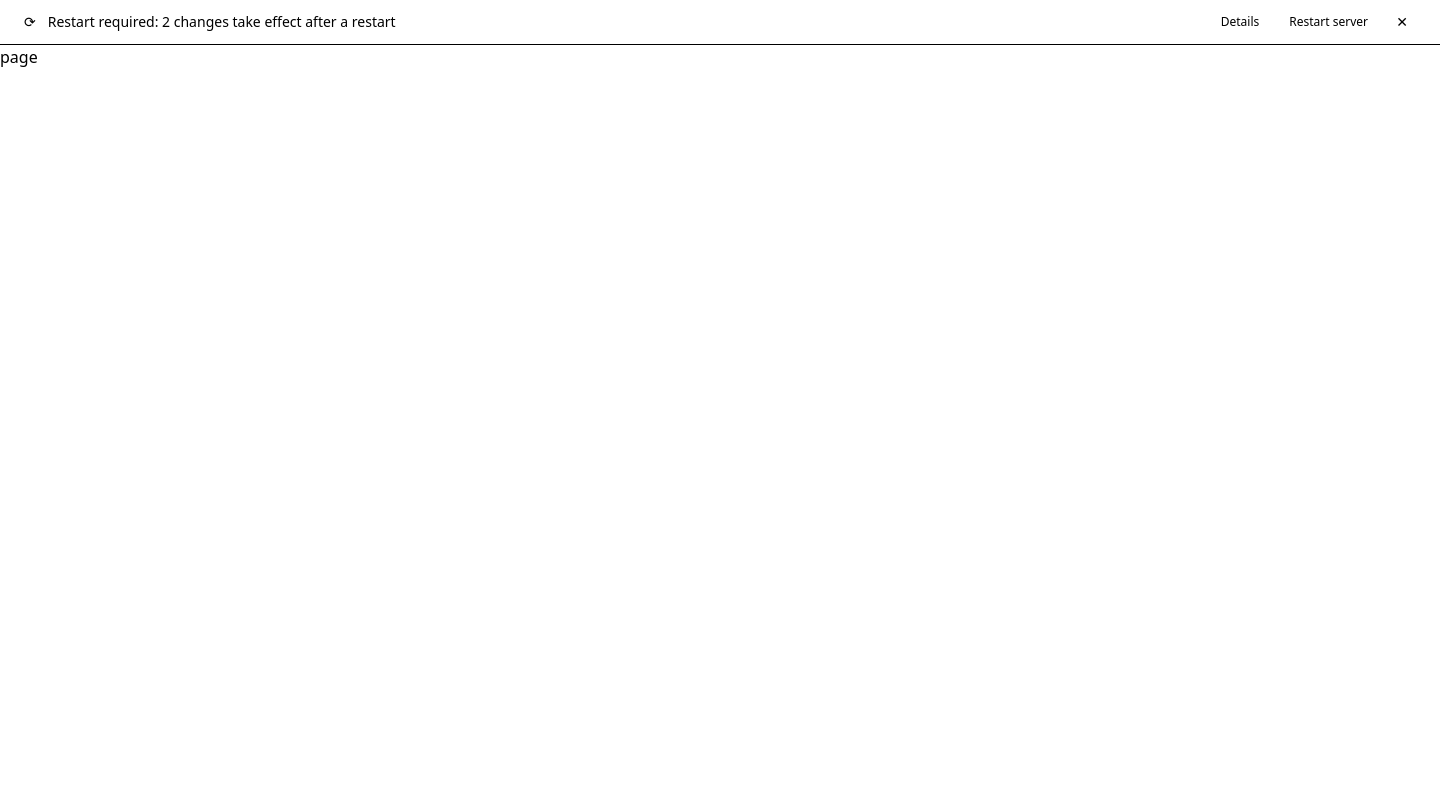
Scenario: Restarting the server › keeps the dialog open with the server's reason when it cannot restart (409)
Click the button "Restart server".
click(1329, 22)  # box top-left (1277, 10), bottom-right (1380, 34)
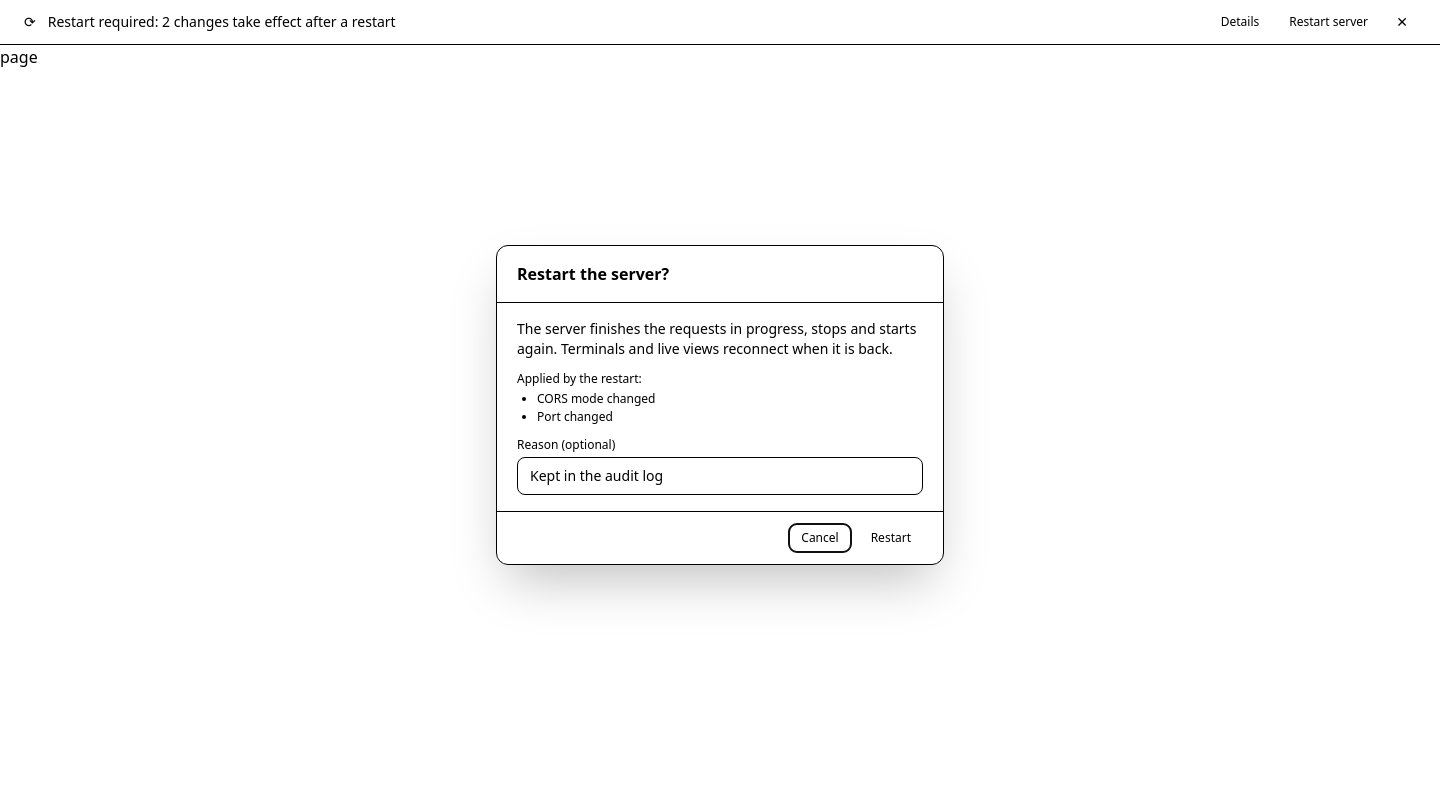
Click the button "Restart".
click(891, 538)  # box top-left (859, 524), bottom-right (923, 552)
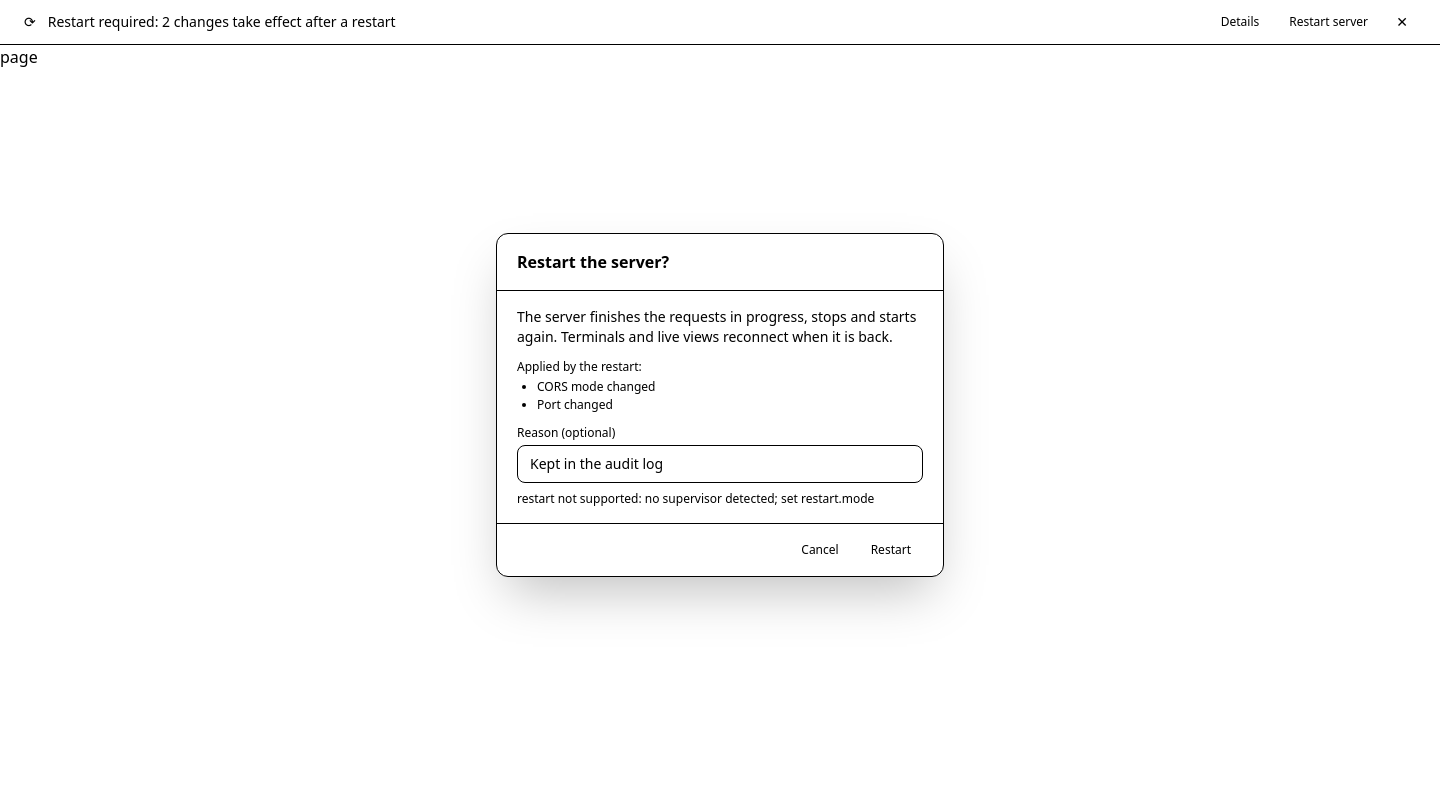
Result: the text "restart not supported: no supervisor detected; set restart.mode" is shown at top-left (517, 491), bottom-right (923, 507)
